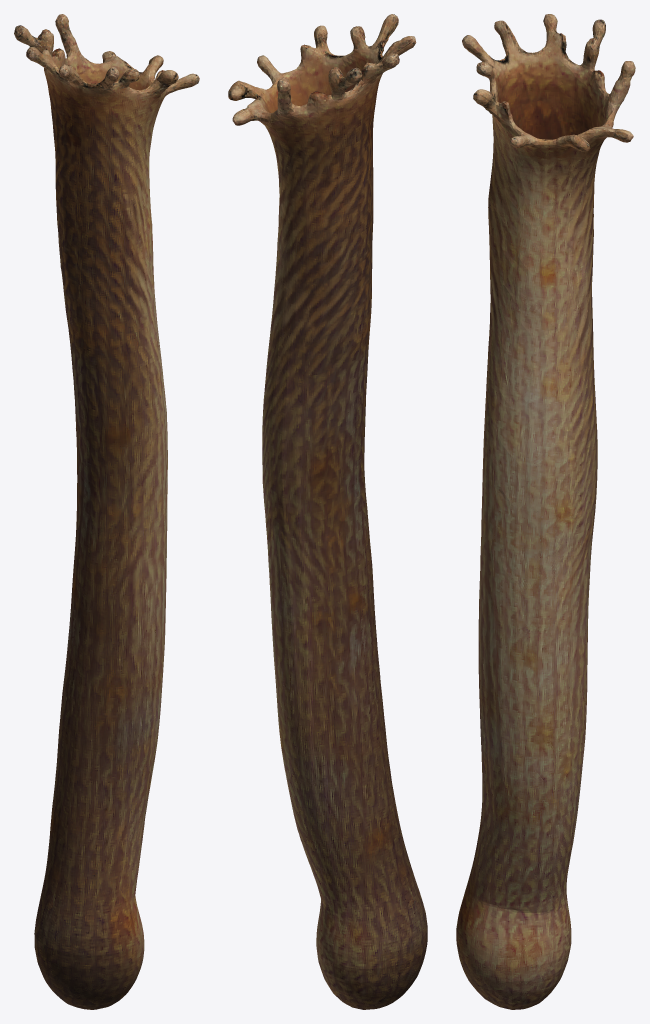
3 renders of one model, left to right at view 1: azimuth 30°, elevation 25°; view 2: azimuth 150°, elevation 25°; view 3: azimuth 270°, elevation 25°, orthographic.
Visible parts, largest first — view 1: world; view 2: world; view 3: world.
Boxes of the visible parts, box(x1,y1,x2,y2) form: world: box(14, 14, 199, 1009); world: box(228, 14, 427, 1009); world: box(456, 14, 635, 1009).
Size of the model in its own units: 0.1721 by 0.9974 by 0.1668.
Materials: 1 (1 with a texture image).
